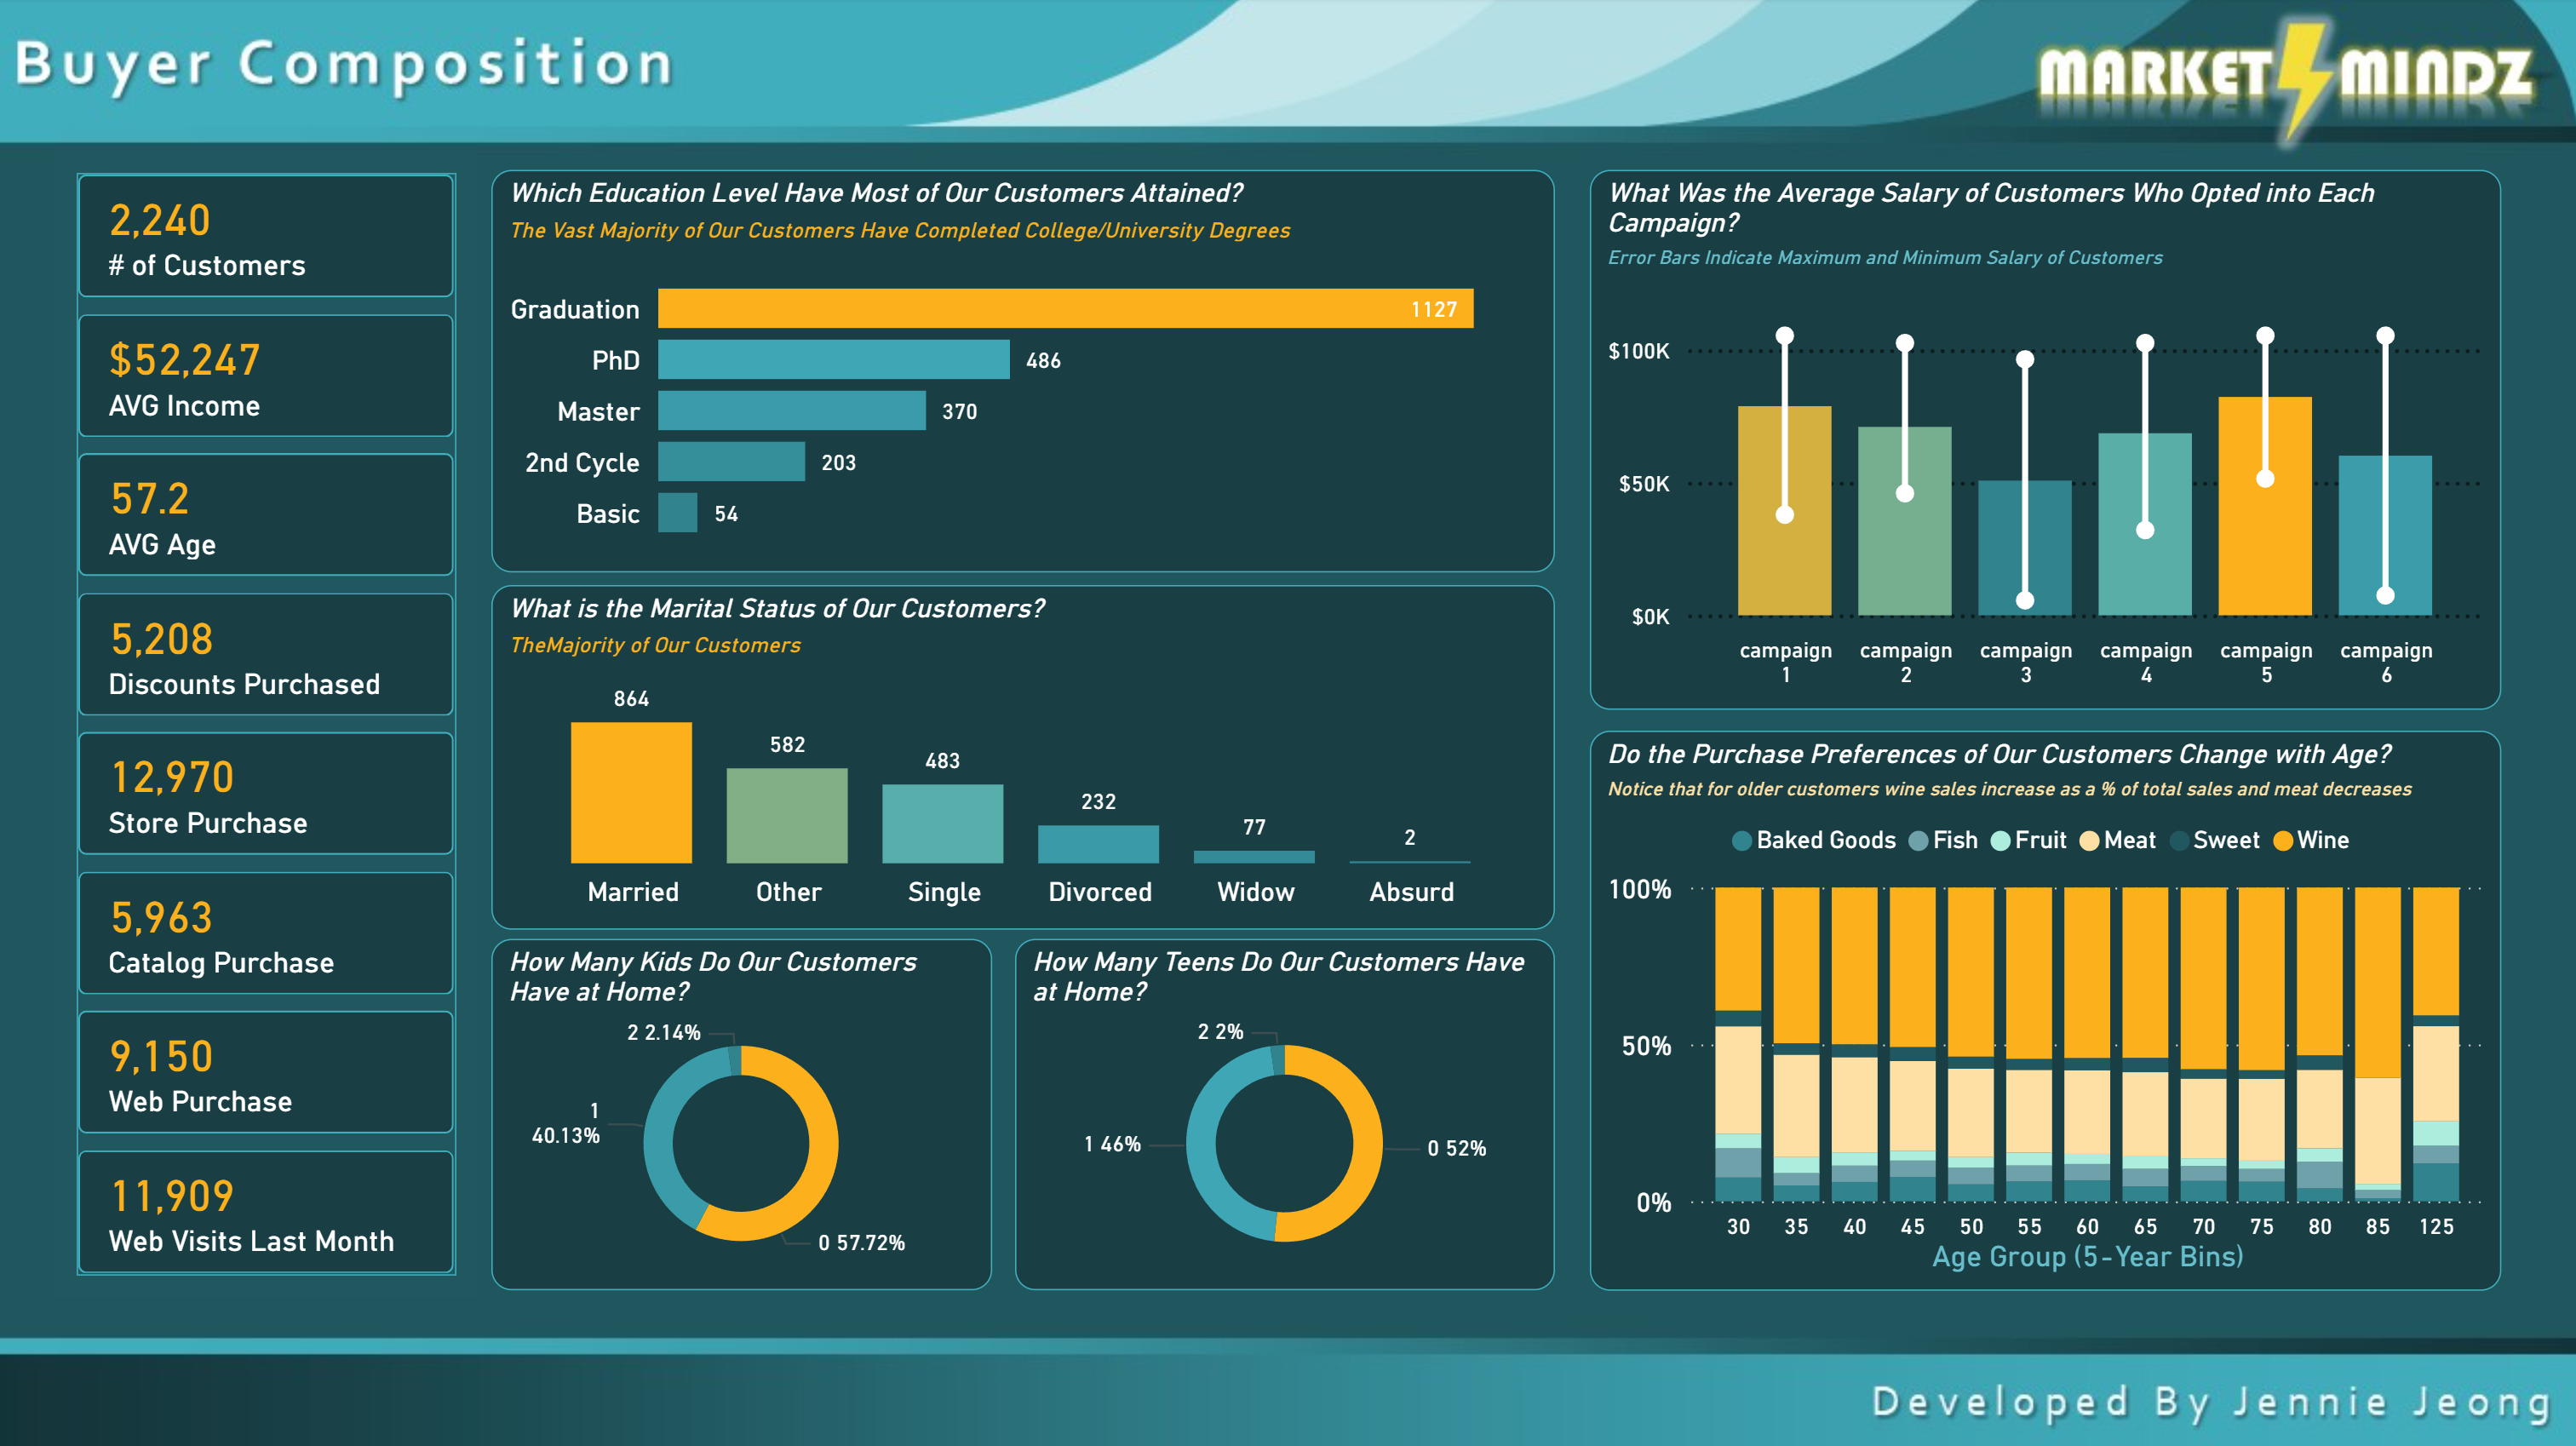

The dashboard page shown, as its layout file describes it:
{"tool":"powerbi","page":{"name":"Buyer Composition","canvas":[1280,720],"ordinal":1},"visuals":[{"type":"clusteredBarChart","title":"Which Education Level Have Most of Our Customers Attained?","fields":{"Category":["marketmindz_research_data.Education"],"Y":["CountNonNull(marketmindz_research_data.ID)"]},"box":[246.7,85.4,526.9,199.2],"z":0},{"type":"columnChart","title":"What is the Marital Status of Our Customers?","fields":{"Y":["CountNonNull(marketmindz_research_data.ID)"],"Category":["marketmindz_research_data.Marital_Status"]},"box":[246.7,291,526.9,170.8],"z":1000},{"type":"donutChart","title":"How Many Kids Do Our Customers Have at Home?","fields":{"Y":["CountNonNull(marketmindz_research_data.ID)"],"Category":["marketmindz_research_data.Kidhome"]},"box":[246.7,466.2,247.9,173.9],"z":2000},{"type":"donutChart","title":"How Many Teens Do Our Customers Have at Home?","fields":{"Y":["CountNonNull(marketmindz_research_data.ID)"],"Category":["marketmindz_research_data.Teenhome"]},"box":[506,466.2,267.6,173.9],"z":3000},{"type":"clusteredColumnChart","title":"What Was the Average Salary of Customers Who Opted into Each Campaign?","fields":{"Category":["Campaign.Campaign"],"Y":["Avg(marketmindz_research_data. Income )"]},"box":[790.6,85.4,451.6,267.6],"z":4000},{"type":"hundredPercentStackedColumnChart","title":"Do the Purchase Preferences of Our Customers Change with Age? ","fields":{"Y":["Sum(Products.Total Sales)"],"Series":["Products.Product"],"Category":["marketmindz_research_data.Age Group"]},"box":[790.6,363.1,451.6,277],"z":5000},{"type":"cardVisual","fields":{"Data":["CountNonNull(marketmindz_research_data.ID)","Avg(marketmindz_research_data. Income )","Avg(marketmindz_research_data.Age)","Sum(marketmindz_research_data.Purchased-Deal)","Sum(marketmindz_research_data.purchased-store)","Sum(marketmindz_research_data.purchased-catalog)","Sum(marketmindz_research_data.purchased-web)","Sum(marketmindz_research_data.web visits last month)"]},"box":[24,69.6,222.6,587],"z":6000}]}

Visuals, with their boxes in screenshot pixels (x1, y1, x2, y2), scaled from the page's 1280x720 canvas onto the 2576x1446 screenshot:
"Which Education Level Have Most of Our Customers Attained?" clusteredBarChart: <region>496, 171, 1557, 571</region>
"What is the Marital Status of Our Customers?" columnChart: <region>496, 584, 1557, 927</region>
"How Many Kids Do Our Customers Have at Home?" donutChart: <region>496, 936, 995, 1286</region>
"How Many Teens Do Our Customers Have at Home?" donutChart: <region>1018, 936, 1557, 1286</region>
"What Was the Average Salary of Customers Who Opted into Each Campaign?" clusteredColumnChart: <region>1591, 171, 2500, 709</region>
"Do the Purchase Preferences of Our Customers Change with Age? " hundredPercentStackedColumnChart: <region>1591, 729, 2500, 1286</region>
cardVisual - CountNonNull(marketmindz_research_data.ID) x Avg(marketmindz_research_data. Income ): <region>49, 140, 496, 1318</region>
